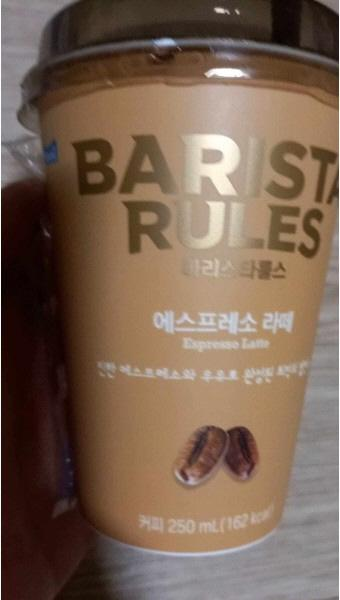baristarules_espressolatte: (18, 0, 339, 561)
